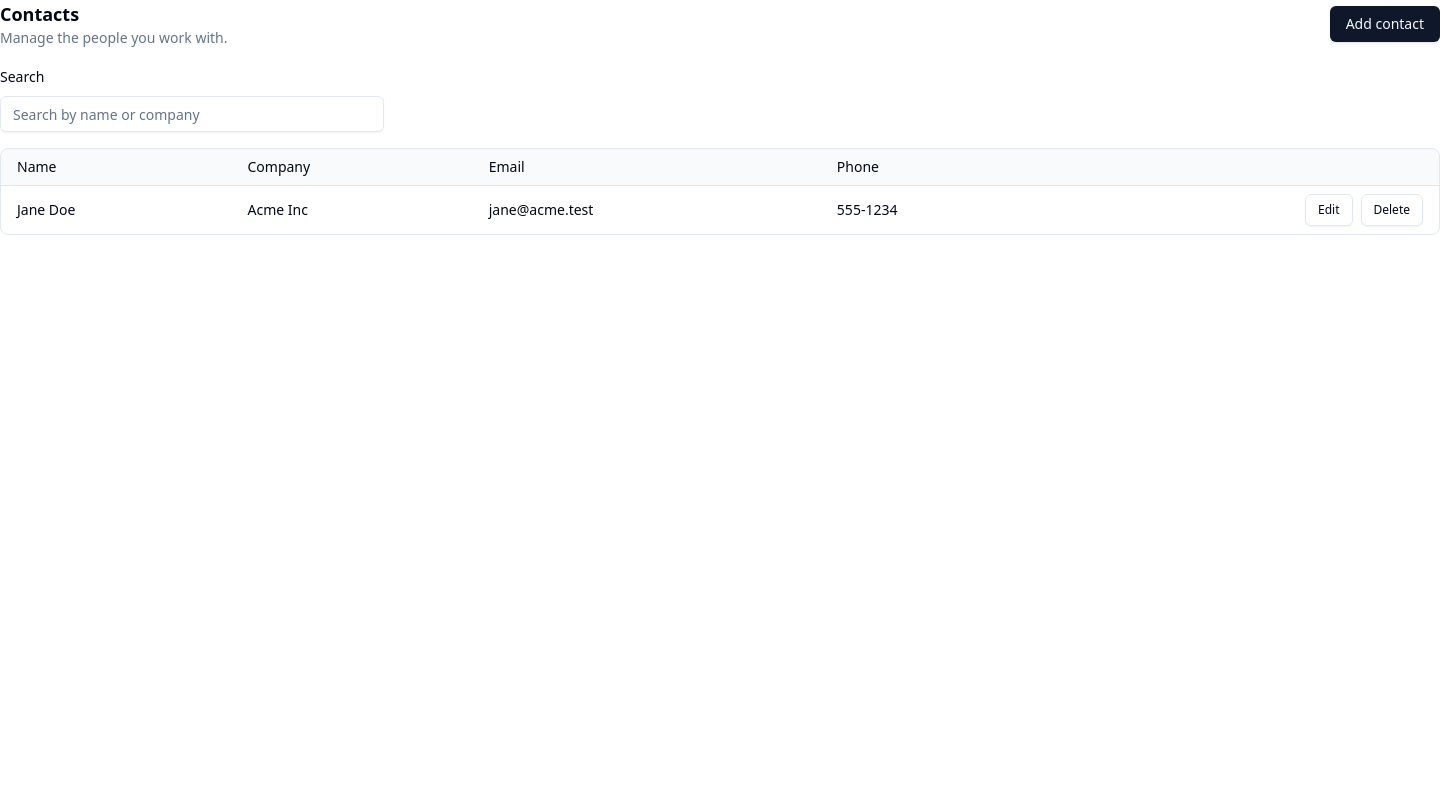
Test case: ContactsPage › edits an existing contact
The width and height of the screenshot is (1440, 810).
Expected: the button "Jane Doe" is shown, x1=17 y1=200 x2=76 y2=220
Click the button with aria-label "edit jane doe" at (1329, 210), box x1=1305 y1=194 x2=1352 y2=226
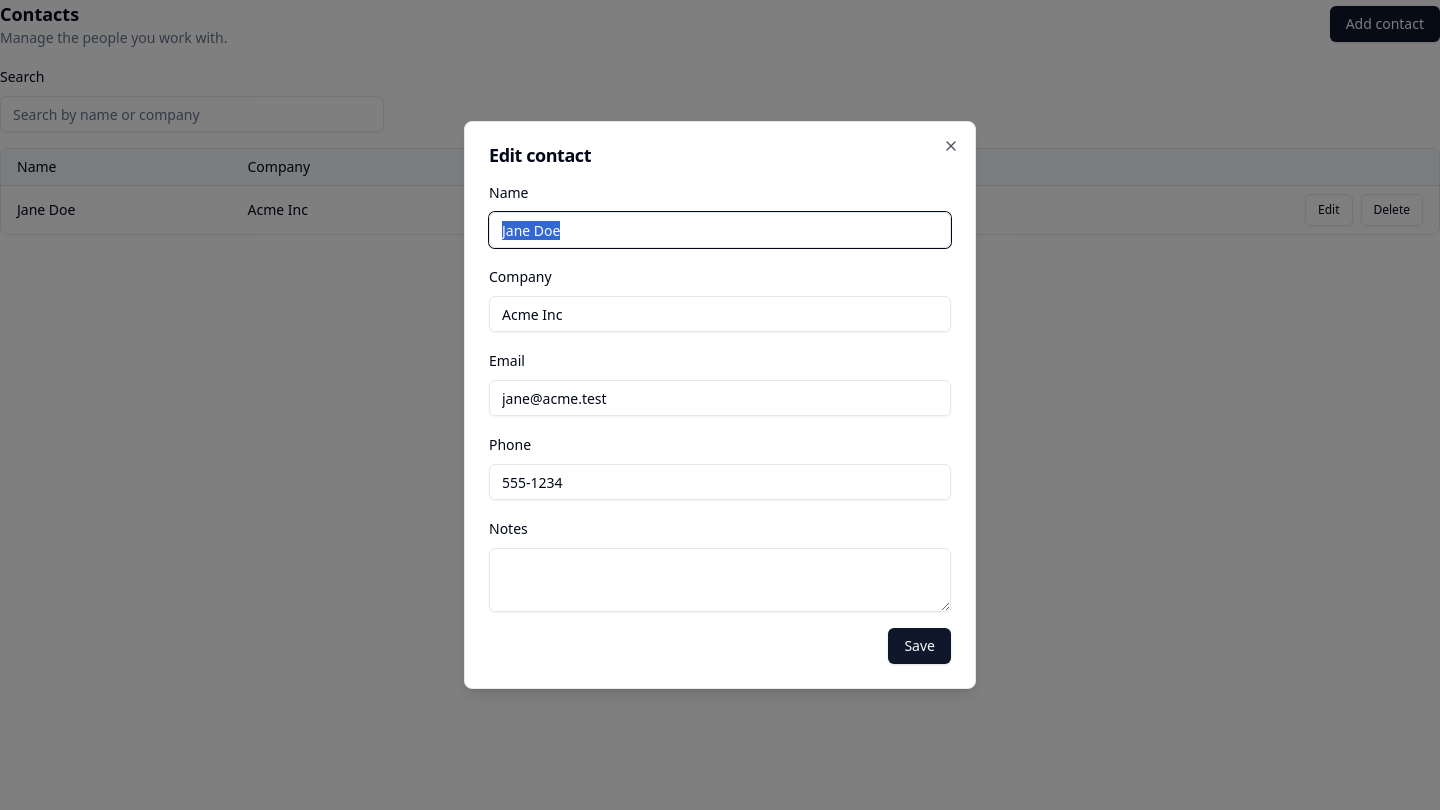
Replace the text in the field labelled "Name" with "Jane Updated" at (720, 230), box x1=489 y1=212 x2=951 y2=248
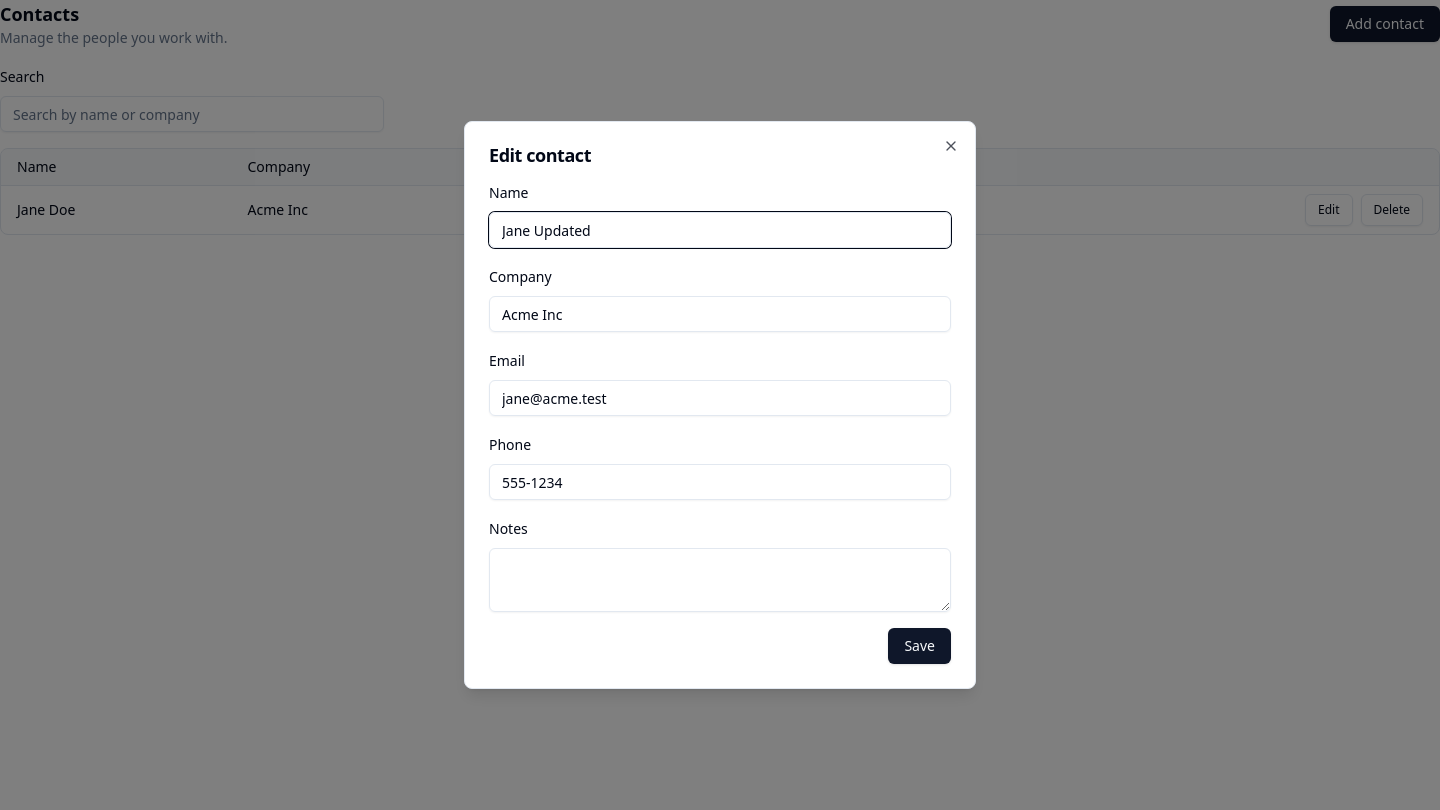
Click the button "Save" at (920, 646), box x1=888 y1=628 x2=951 y2=664
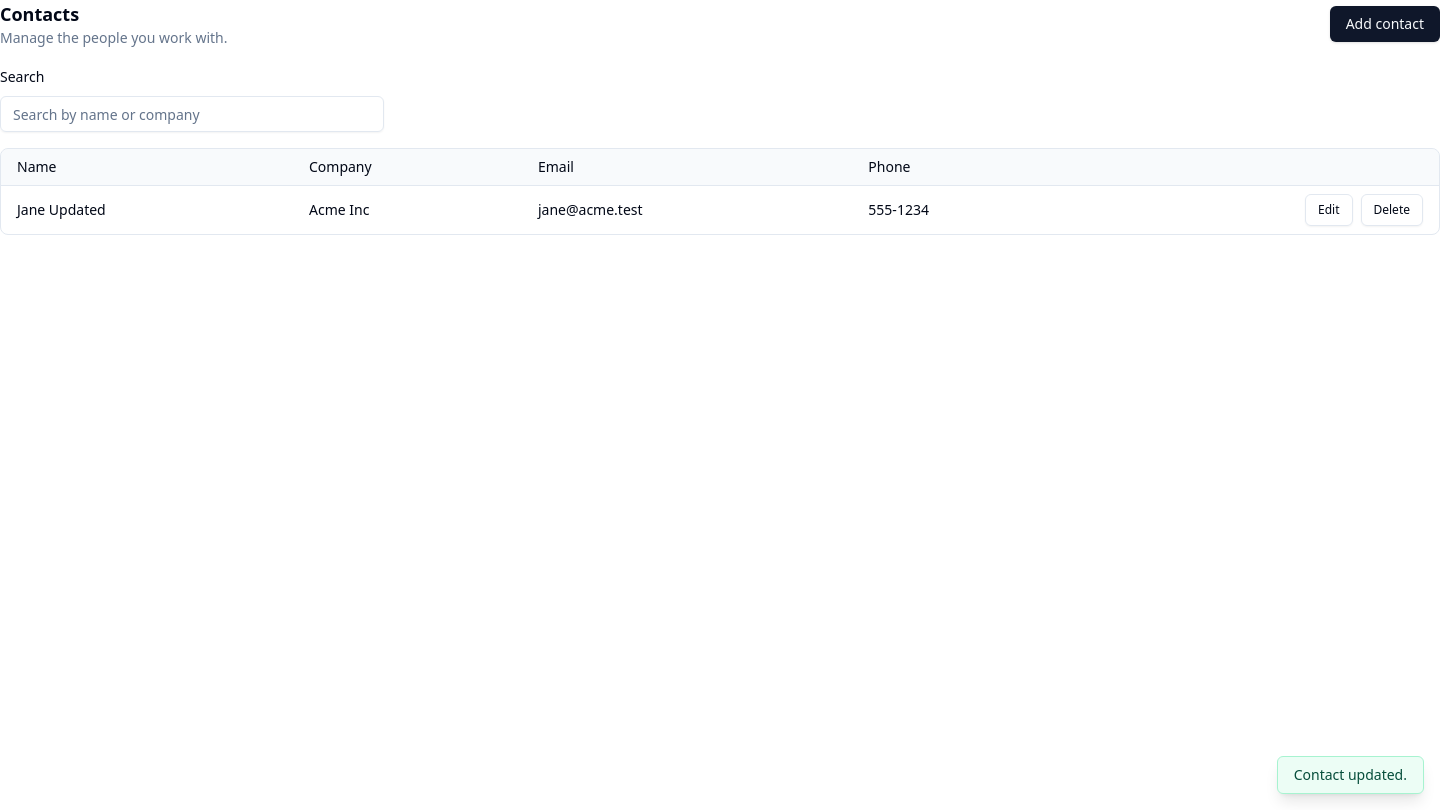
Expected: the button "Jane Updated" is shown, x1=17 y1=200 x2=106 y2=220
Expected: the button "Jane Doe" is gone
